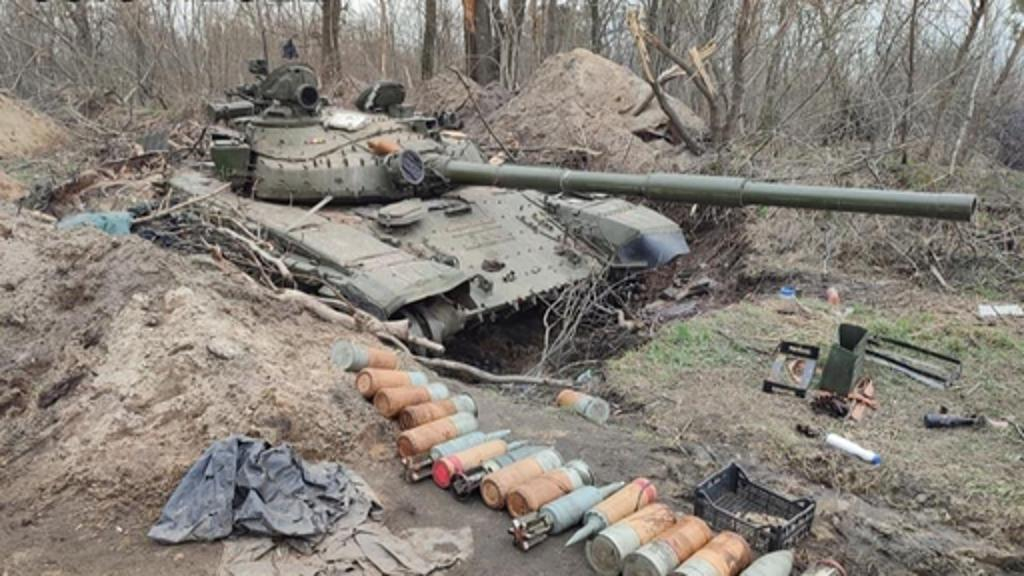TANK: (144, 54, 980, 364)
